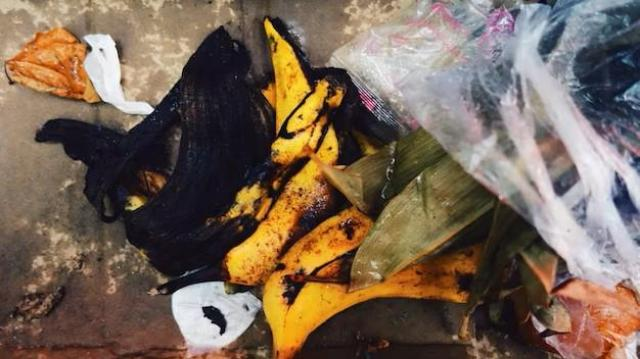Garbage: (0, 1, 640, 359)
contaminated_waste: (329, 0, 640, 313)
